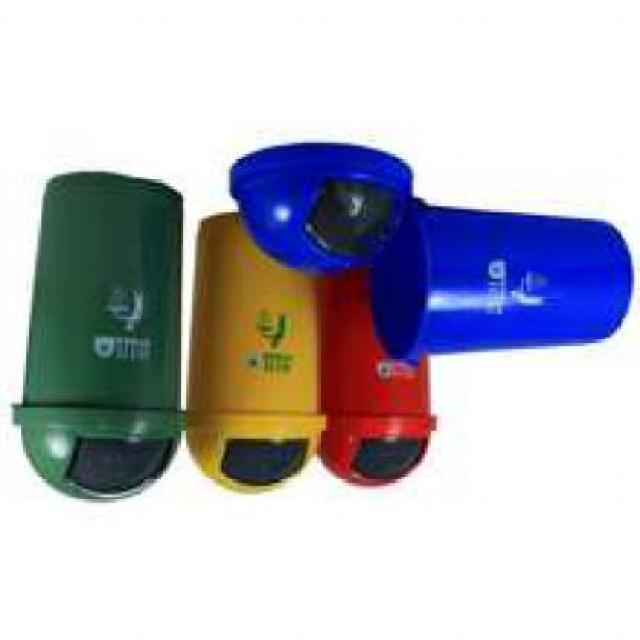garbage container: (4, 155, 187, 511), (347, 190, 635, 370), (181, 220, 318, 508), (321, 268, 432, 496)
